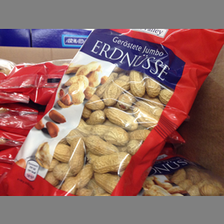nuts: (3, 30, 224, 196)
